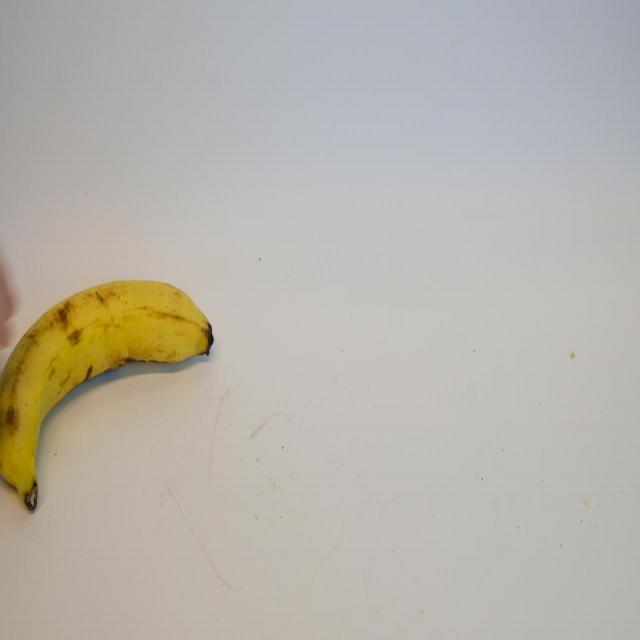banana: (1, 275, 215, 513)
